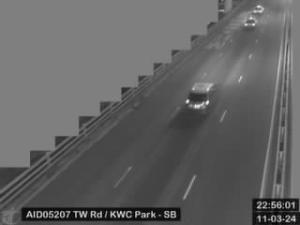vehicle: (186, 82, 220, 114), (240, 18, 256, 31), (252, 5, 264, 15)
